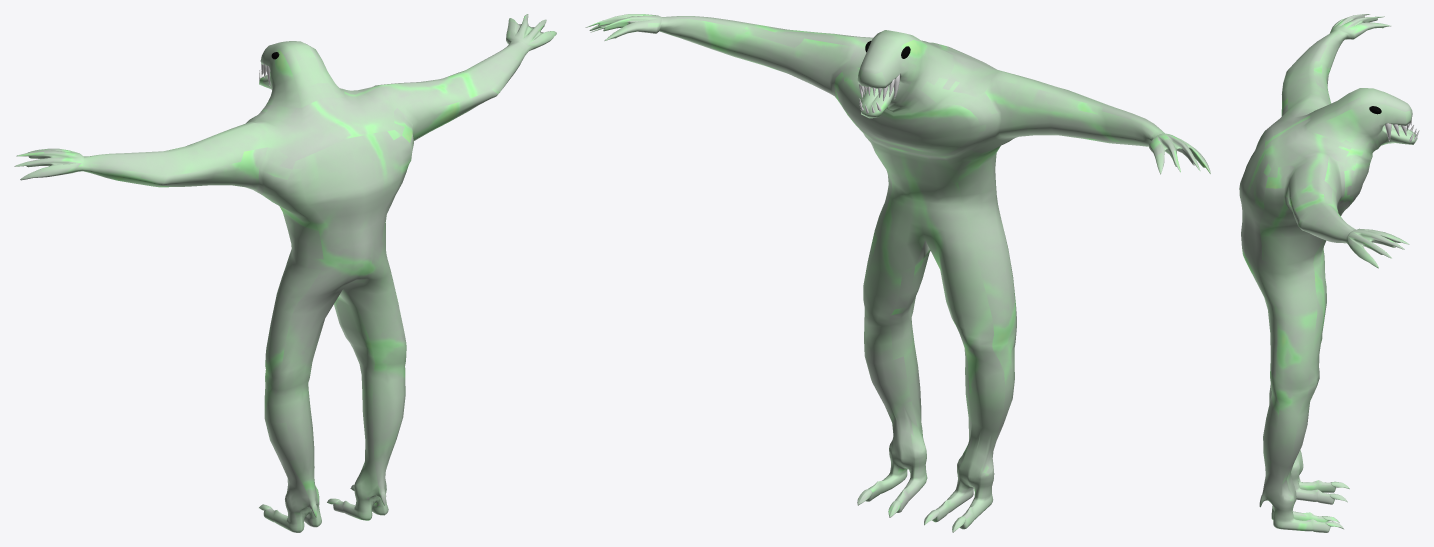
The model's file is Berserkeraranar.0008.obj.
3 renders of one model, left to right at view 1: azimuth 30°, elevation 25°; view 2: azimuth 150°, elevation 25°; view 3: azimuth 270°, elevation 25°, orthographic. The views are drawn at different scales.
Visible parts, largest first — view 1: polySurface27; view 2: polySurface27; view 3: polySurface27.
Part boxes in pixels (x1,y1,x2,y2): polySurface27: (14, 14, 556, 532); polySurface27: (585, 14, 1210, 532); polySurface27: (1239, 14, 1419, 532).
Size of the model in its own units: 30.55 by 24.11 by 9.24.
1 material, 1 textured.
